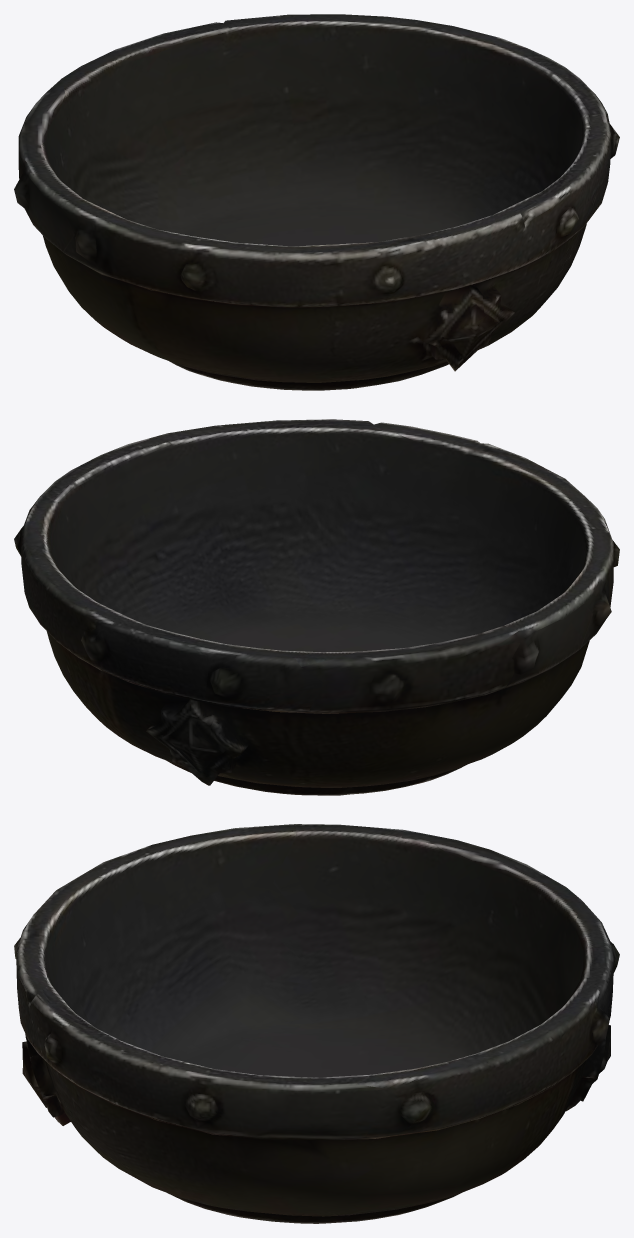
The model's file is bowl_large.fbx.
3 views of the same model, one above another, from view 1: azimuth 30°, elevation 25°; view 2: azimuth 150°, elevation 25°; view 3: azimuth 270°, elevation 25° (orthographic). The views are drawn at different scales.
Visible parts, largest first — view 1: bowl_large; view 2: bowl_large; view 3: bowl_large.
Part boxes in pixels (x1=…): bowl_large: x1=14, y1=14, x2=619, y2=390; bowl_large: x1=14, y1=419, x2=619, y2=795; bowl_large: x1=14, y1=824, x2=619, y2=1223.
Size of the model in its own units: 40.22 by 13.31 by 38.43.
1 material, 1 textured.
